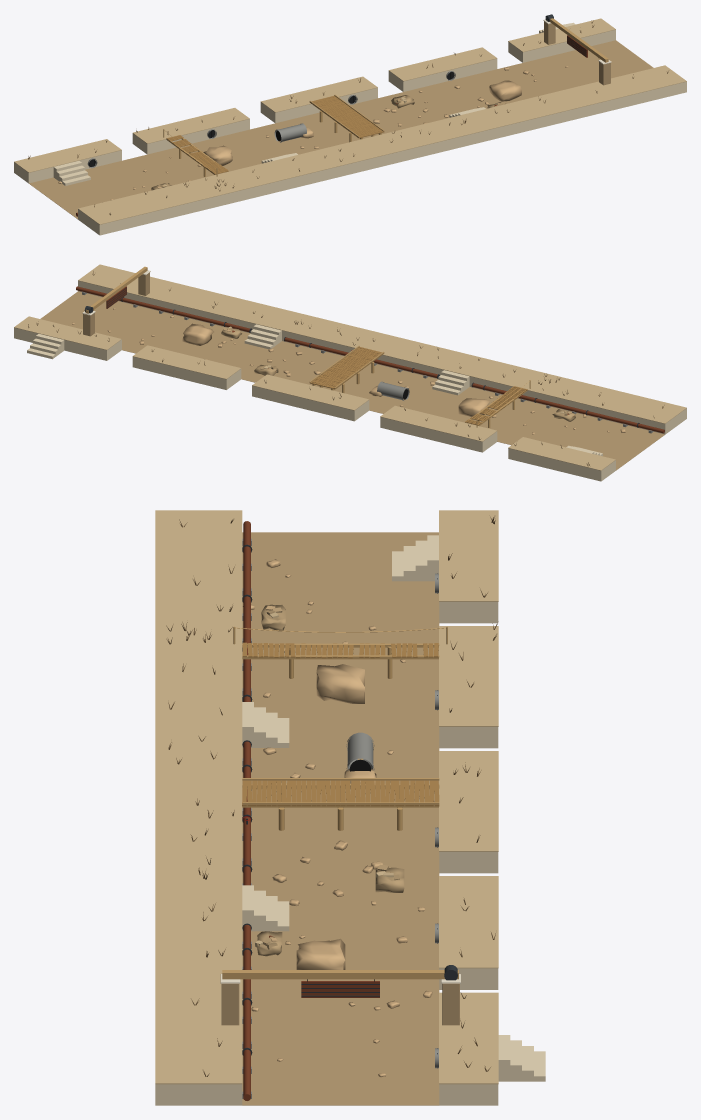
Rendered from db-south.glb.
3 views of the same model, one above another, from view 1: azimuth 30°, elevation 25°; view 2: azimuth 150°, elevation 25°; view 3: azimuth 270°, elevation 25° (orthographic). The views are drawn at different scales.
Visible parts, largest first — view 1: db-south; view 2: db-south; view 3: db-south.
Boxes of the visible parts, x1,y1,x2,y2 form: db-south: (14, 14, 686, 235); db-south: (14, 264, 686, 481); db-south: (155, 510, 545, 1105).
Size of the model in its own units: 68.8 by 4.33 by 19.81.
